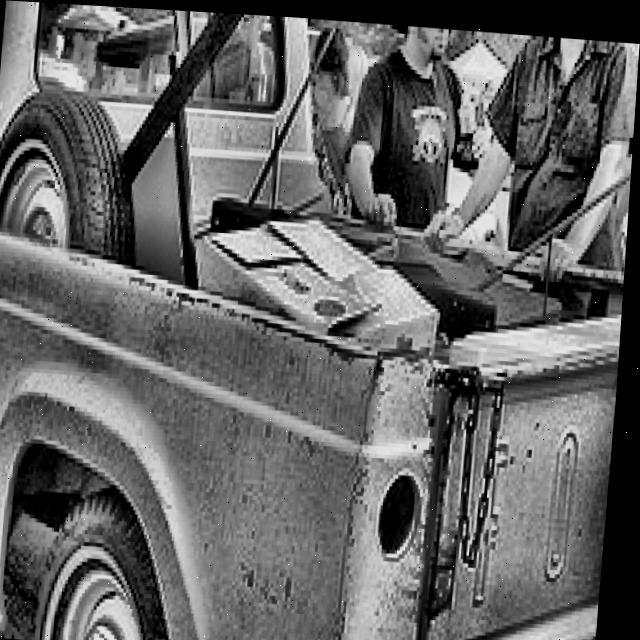light_vehicle: (0, 0, 640, 640), (0, 0, 97, 119)
